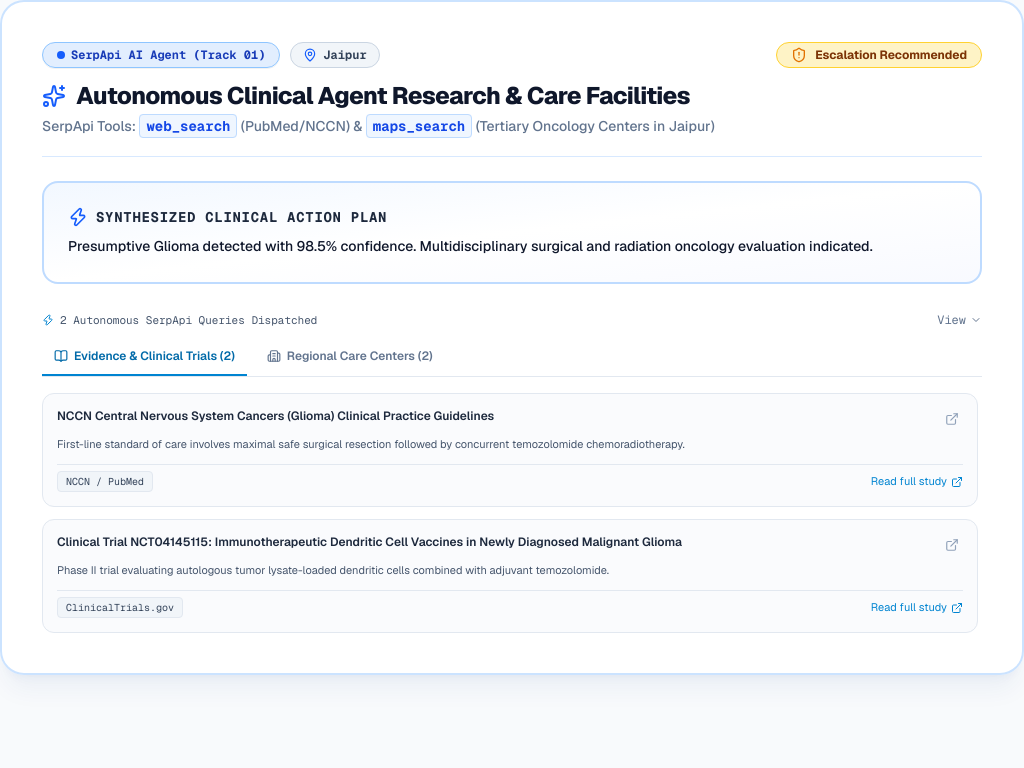
Test: ClinicalAgentCard Component › switches to Regional Care Centers tab and displays hospital cards
The width and height of the screenshot is (1024, 768).
Click the button "Regional Care Centers (2)". click: (350, 362)
box: x1=255 y1=348 x2=445 y2=376
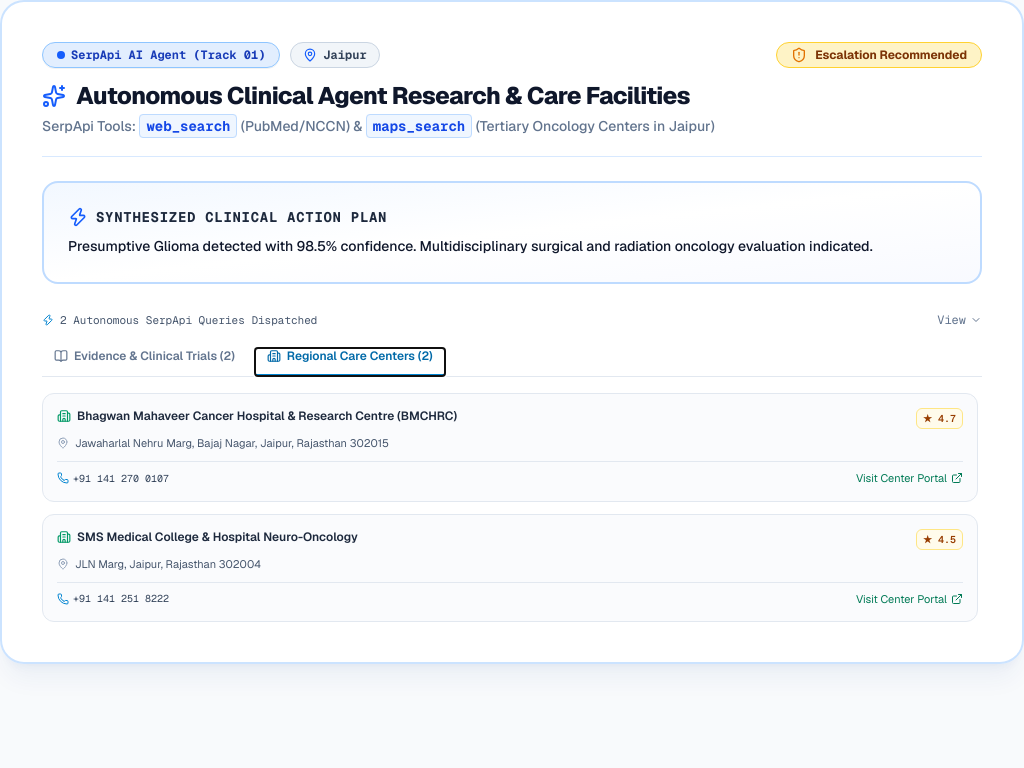
Check: the text "Bhagwan Mahaveer Cancer Hospital & Research Centre (BMCHRC)" is shown, box x1=77 y1=408 x2=457 y2=424
Check: the text "★ 4.7" is shown, box x1=916 y1=408 x2=963 y2=429
Check: the text "Jawaharlal Nehru Marg, Bajaj Nagar, Jaipur, Rajasthan 302015" is shown, box x1=75 y1=435 x2=389 y2=453
